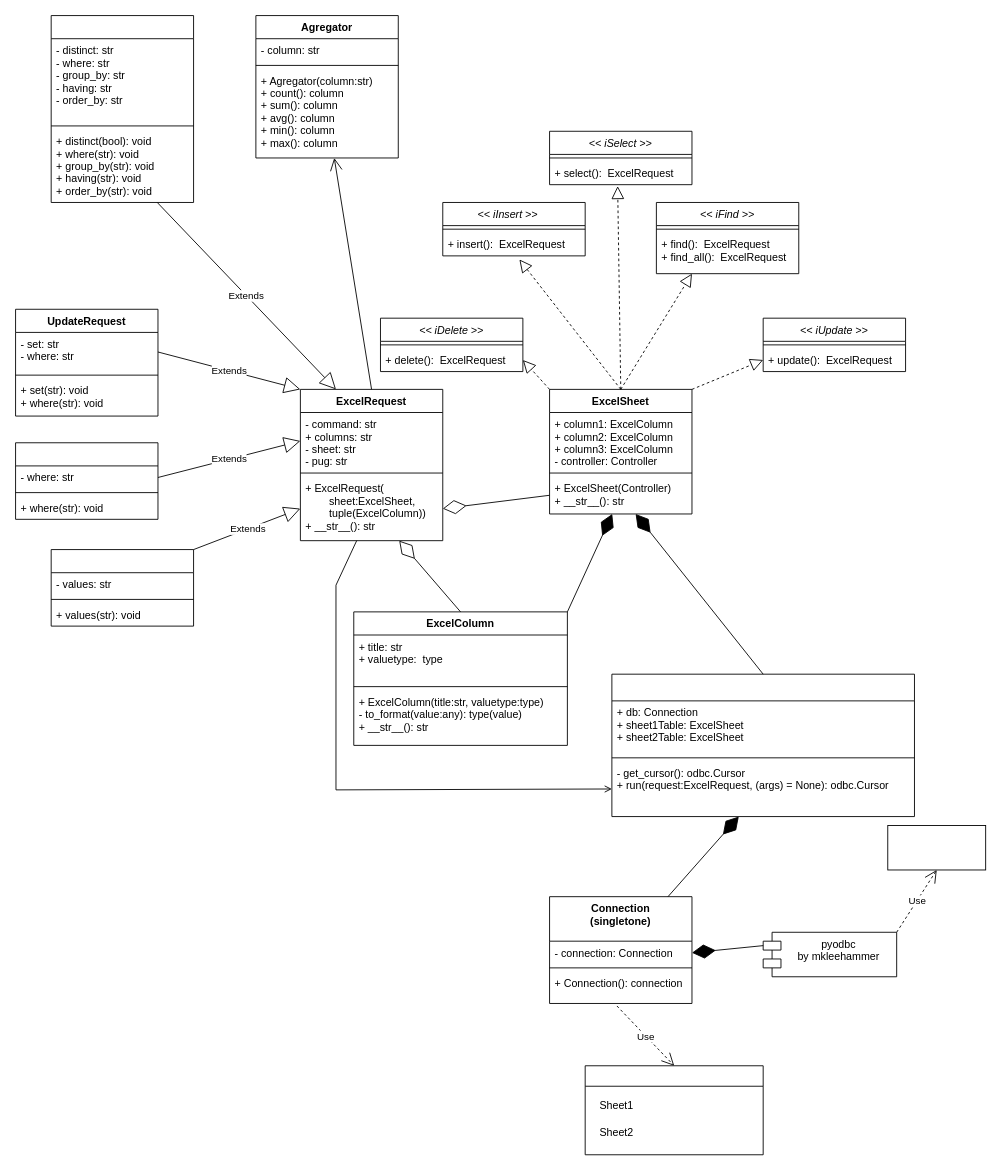
The diagram is 1001 pixels wide and 1170 high, and some of its shapes have lost their labels. The box of each missing label's shape, as (x1, y1, x2, y2) in pixels:
Controller: (611, 673, 914, 817)
DeleteRequest: (15, 442, 158, 519)
ExcelFile: (584, 1065, 763, 1155)
InsertRequest: (50, 549, 194, 626)
odbc driver Microsoft Excel: (887, 825, 986, 870)
SelectRequest: (50, 15, 194, 202)
